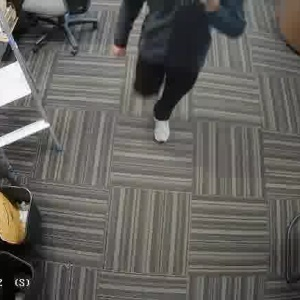person: (125, 0, 211, 138)
